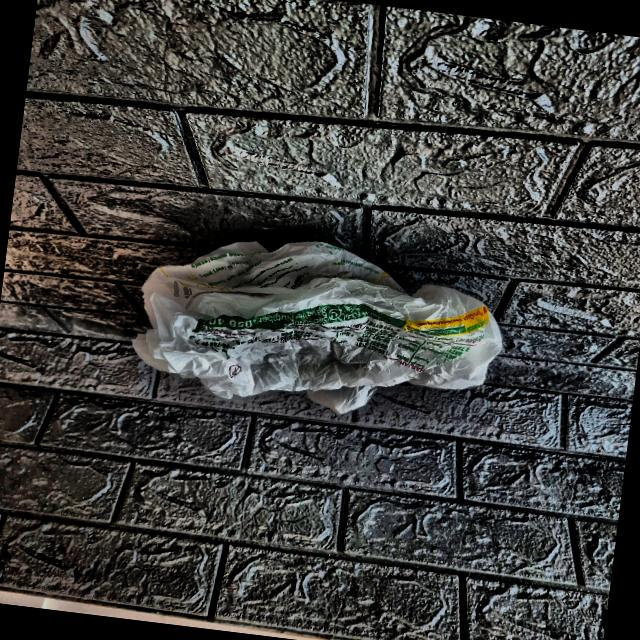plastic bag: (115, 222, 518, 433)
